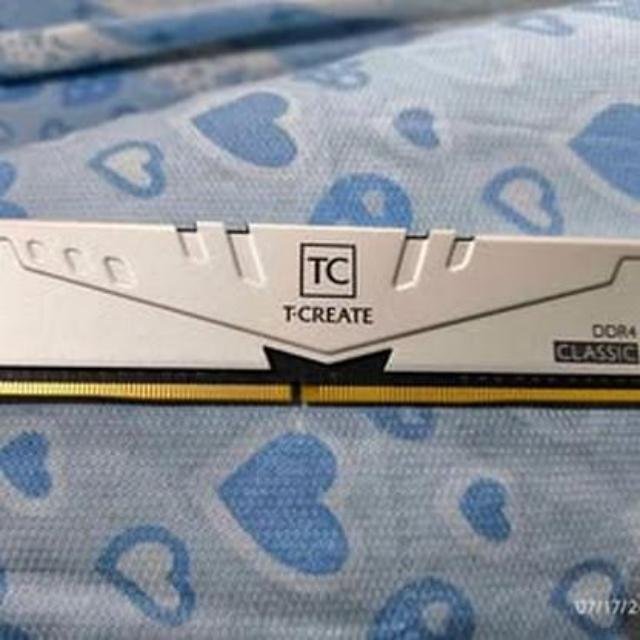RAM: (0, 199, 640, 421)
